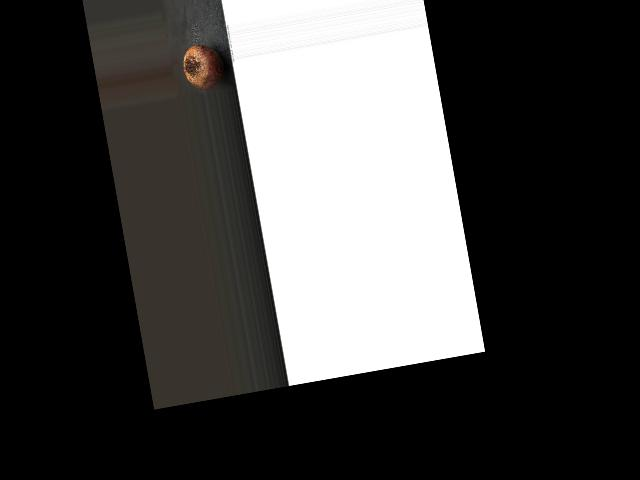beet: (180, 41, 227, 93)
